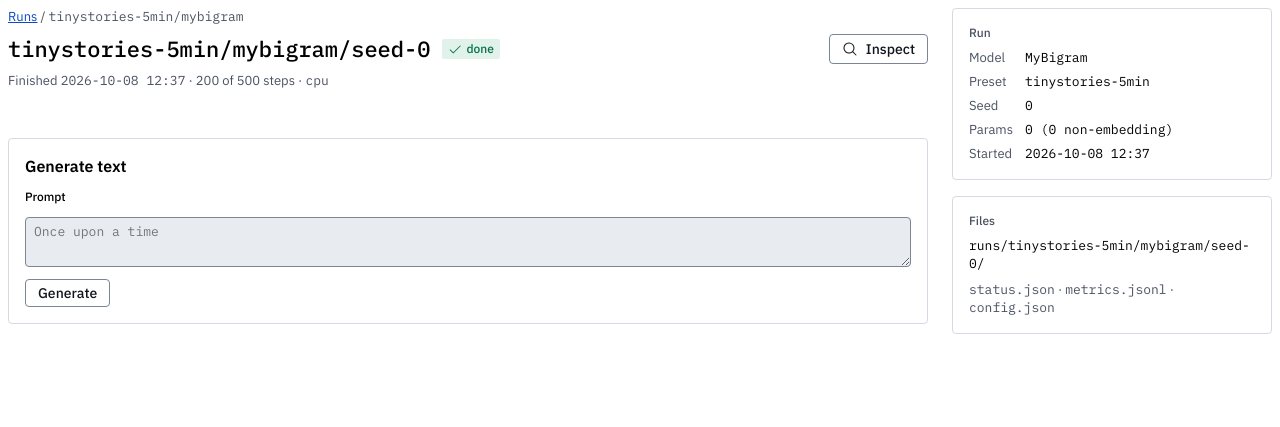
Scenario: Run actions › says when no worker is there to generate, in the library's words
This screenshot has width=1280, height=427.
Click the button "Generate" at (68, 293), box [25,279,110,307]
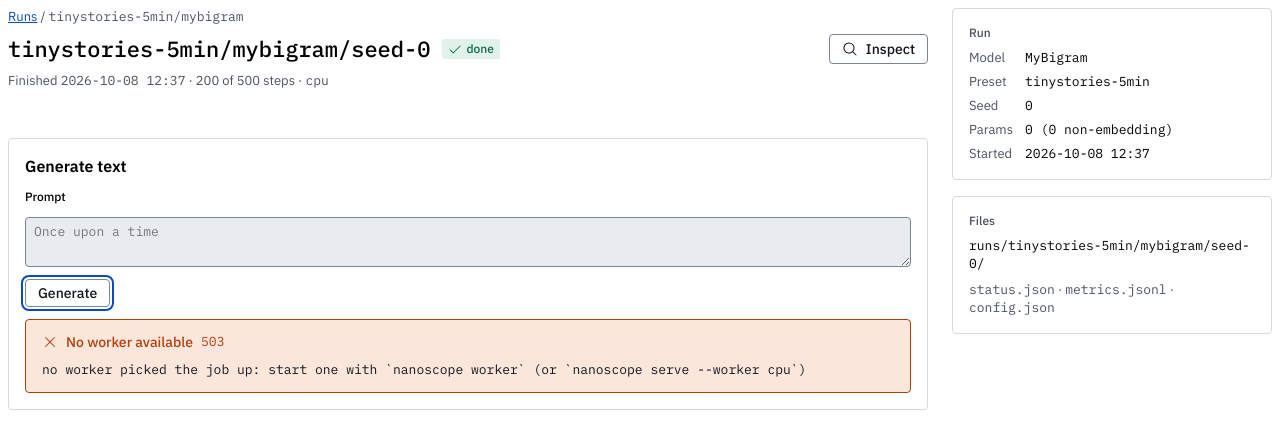
Check: the message shows "no worker picked the job up", box [42,361,806,378]
